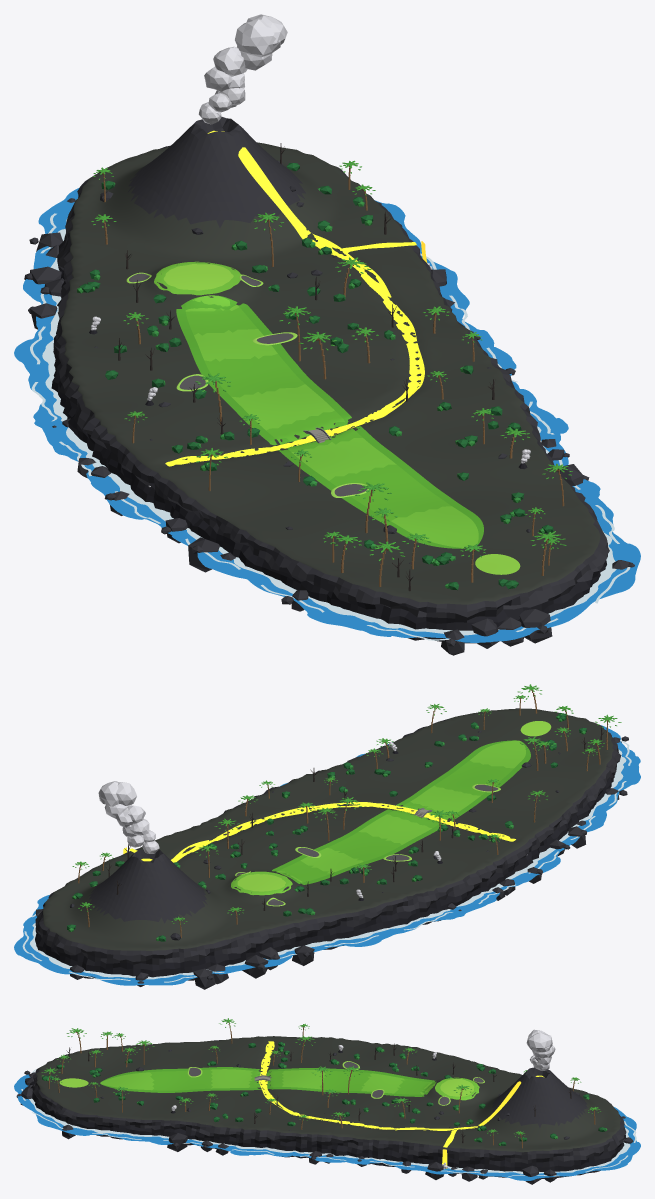
The model's file is hole_16.fbx.
3 views of the same model, one above another, from view 1: azimuth 30°, elevation 25°; view 2: azimuth 150°, elevation 25°; view 3: azimuth 270°, elevation 25° (orthographic). The views are drawn at different scales.
Visible parts, largest first — view 1: TERRAIN_ISLAND_1, FAIRWAY, WATER_SHALLOW_1, TREES, ROCKS, FAIRWAY_FIRSTCUT, LAVA_RIVER_1, SMOKE_1, WATER_FOAM_1, WATER_FOAM_CREST_1, GREEN_1, GREEN_APRON_1; view 2: TERRAIN_ISLAND_1, FAIRWAY, TREES, WATER_SHALLOW_1, ROCKS, FAIRWAY_FIRSTCUT, SMOKE_1, WATER_FOAM_1, LAVA_RIVER_1, WATER_FOAM_CREST_1, GREEN_1, GREEN_APRON_1; view 3: TERRAIN_ISLAND_1, FAIRWAY, TREES, WATER_SHALLOW_1, ROCKS, FAIRWAY_FIRSTCUT, WATER_FOAM_1, LAVA_RIVER_1, SMOKE_1, WATER_FOAM_CREST_1, GREEN_1, GREEN_APRON_1.
Part boxes in pixels (box(x1,y1,x2,y2)): TERRAIN_ISLAND_1: box(51, 116, 609, 643); FAIRWAY: box(185, 295, 478, 548); WATER_SHALLOW_1: box(14, 187, 640, 642); TREES: box(77, 143, 572, 591); ROCKS: box(24, 160, 634, 655); FAIRWAY_FIRSTCUT: box(176, 295, 483, 548); LAVA_RIVER_1: box(165, 147, 424, 466); SMOKE_1: box(198, 14, 287, 124); WATER_FOAM_1: box(42, 218, 616, 635); WATER_FOAM_CREST_1: box(30, 213, 630, 640); GREEN_1: box(163, 264, 233, 290); GREEN_APRON_1: box(154, 261, 241, 295); TERRAIN_ISLAND_1: box(35, 708, 621, 980); FAIRWAY: box(277, 740, 525, 882); TREES: box(67, 684, 621, 941); WATER_SHALLOW_1: box(14, 725, 640, 985); ROCKS: box(35, 730, 628, 989); FAIRWAY_FIRSTCUT: box(272, 740, 530, 884); SMOKE_1: box(98, 781, 159, 853); WATER_FOAM_1: box(30, 749, 626, 979); LAVA_RIVER_1: box(171, 802, 515, 862); WATER_FOAM_CREST_1: box(22, 740, 631, 982); GREEN_1: box(237, 874, 285, 891); GREEN_APRON_1: box(231, 871, 292, 895); TERRAIN_ISLAND_1: box(30, 1036, 626, 1178); FAIRWAY: box(100, 1069, 435, 1094); TREES: box(41, 1018, 607, 1148); WATER_SHALLOW_1: box(14, 1074, 640, 1180); ROCKS: box(16, 1043, 633, 1184); FAIRWAY_FIRSTCUT: box(101, 1067, 436, 1096); WATER_FOAM_1: box(29, 1098, 630, 1173); LAVA_RIVER_1: box(259, 1041, 521, 1130); SMOKE_1: box(526, 1029, 555, 1070); WATER_FOAM_CREST_1: box(21, 1069, 636, 1176); GREEN_1: box(440, 1078, 474, 1096); GREEN_APRON_1: box(435, 1077, 479, 1100).
Size of what is drawn, in the model's own units: 315 by 136 by 600.
